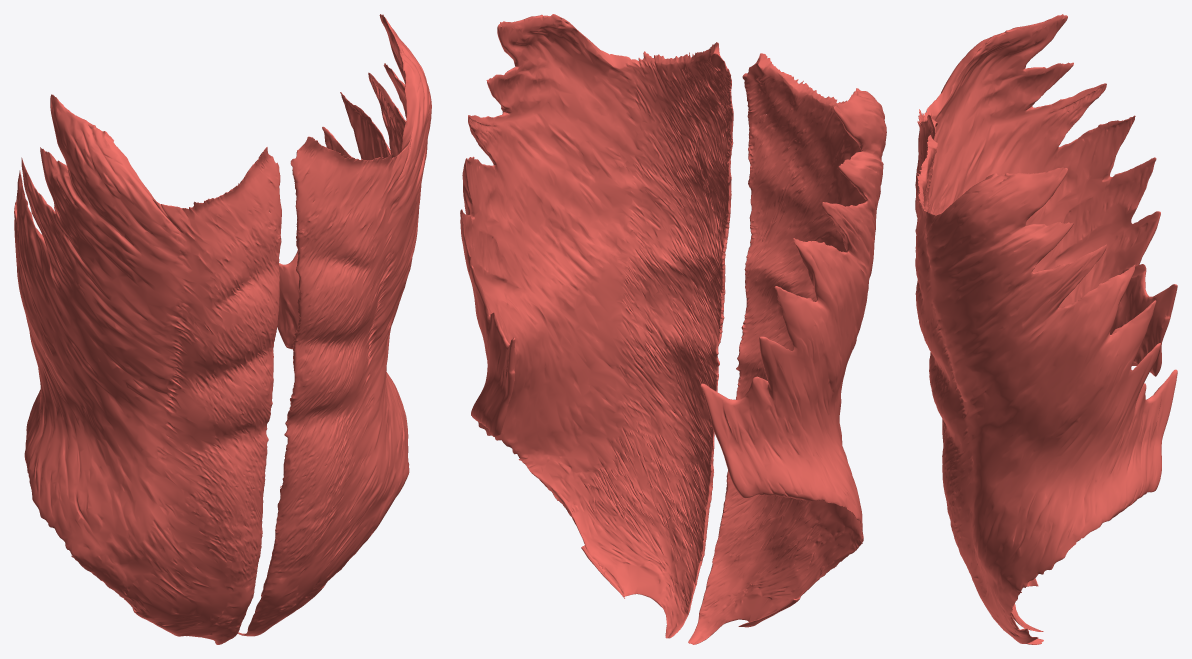
Rendered from supplement-spine-trunk-muscle-abdominals.glb.
3 renders of one model, left to right at view 1: azimuth 30°, elevation 25°; view 2: azimuth 150°, elevation 25°; view 3: azimuth 270°, elevation 25°, orthographic. The views are drawn at different scales.
Visible parts, largest first — view 1: spine-trunk:external-oblique:isa:FJ1452, spine-trunk:external-oblique:isa:FJ1452M; view 2: spine-trunk:external-oblique:isa:FJ1452M, spine-trunk:external-oblique:isa:FJ1452; view 3: spine-trunk:external-oblique:isa:FJ1452M, spine-trunk:external-oblique:isa:FJ1452.
Boxes of the visible parts, box(x1,y1,x2,y2) form: spine-trunk:external-oblique:isa:FJ1452: box(14, 94, 281, 644); spine-trunk:external-oblique:isa:FJ1452M: box(238, 14, 431, 636); spine-trunk:external-oblique:isa:FJ1452M: box(460, 14, 733, 638); spine-trunk:external-oblique:isa:FJ1452: box(688, 53, 886, 644); spine-trunk:external-oblique:isa:FJ1452M: box(915, 135, 1177, 644); spine-trunk:external-oblique:isa:FJ1452: box(915, 14, 1177, 631).
Bounding box in the file's own units: 0.2816 × 0.418 × 0.1817.
